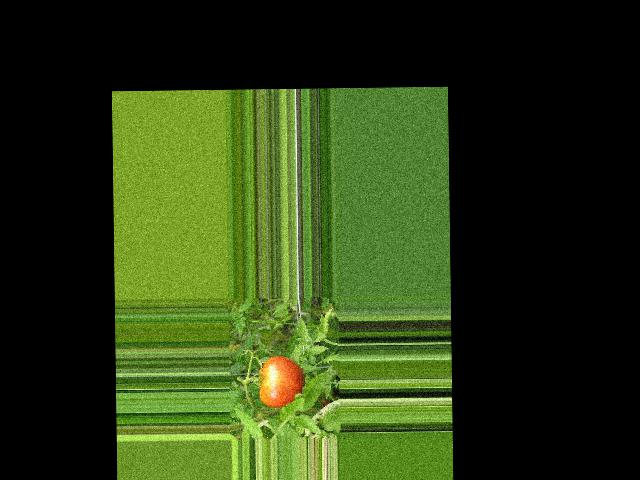tomato: (258, 356, 304, 407)
